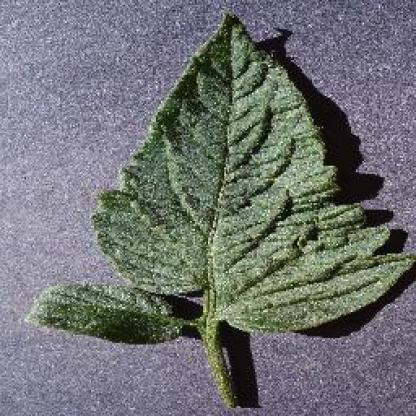bad leaf: (40, 22, 393, 415)
